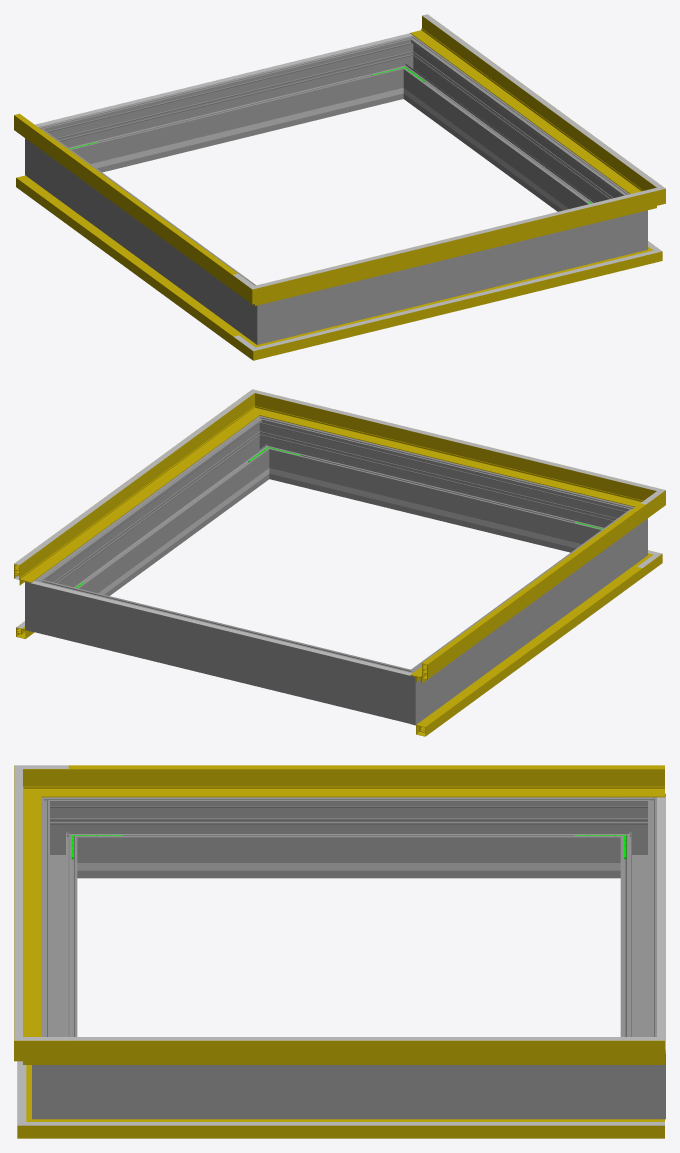
The picture shows the model from 3 angles, top to bottom: view 1: azimuth 30°, elevation 25°; view 2: azimuth 150°, elevation 25°; view 3: azimuth 270°, elevation 25°; orthographic projection. The views are drawn at different scales.
Visible parts, largest first — view 1: 3DGeom-276, 3DGeom-298, 3DGeom-297, 3DGeom-268, 3DGeom-56, 3DGeom-58, 3DGeom-11, 3DGeom-50, 3DGeom-6, 3DGeom-270, 3DGeom-244, 3DGeom-284 (+12 smaller); view 2: 3DGeom-298, 3DGeom-276, 3DGeom-297, 3DGeom-268, 3DGeom-56, 3DGeom-58, 3DGeom-50, 3DGeom-6, 3DGeom-278, 3DGeom-284, 3DGeom-239, 3DGeom-290 (+9 smaller); view 3: 3DGeom-268, 3DGeom-297, 3DGeom-50, 3DGeom-58, 3DGeom-16, 3DGeom-298, 3DGeom-276, 3DGeom-56, 3DGeom-232, 3DGeom-284, 3DGeom-290, 3DGeom-278 (+9 smaller).
Part boxes in pixels (x1,y1,x2,y2): 3DGeom-276: [63, 42, 397, 172]; 3DGeom-298: [291, 219, 613, 336]; 3DGeom-297: [407, 47, 621, 211]; 3DGeom-268: [45, 139, 248, 329]; 3DGeom-56: [283, 197, 631, 298]; 3DGeom-58: [410, 16, 642, 192]; 3DGeom-11: [283, 256, 627, 352]; 3DGeom-50: [14, 115, 233, 289]; 3DGeom-6: [16, 175, 242, 345]; 3DGeom-270: [237, 279, 291, 344]; 3DGeom-244: [103, 96, 370, 166]; 3DGeom-284: [384, 35, 429, 100]; 3DGeom-298: [275, 423, 609, 552]; 3DGeom-276: [59, 585, 387, 716]; 3DGeom-297: [50, 428, 265, 595]; 3DGeom-268: [424, 519, 627, 710]; 3DGeom-56: [277, 400, 628, 503]; 3DGeom-58: [14, 405, 249, 585]; 3DGeom-50: [410, 505, 645, 683]; 3DGeom-6: [410, 566, 642, 736]; 3DGeom-278: [381, 660, 435, 725]; 3DGeom-284: [25, 569, 65, 638]; 3DGeom-239: [302, 476, 569, 546]; 3DGeom-290: [243, 416, 288, 481]; 3DGeom-268: [86, 797, 611, 878]; 3DGeom-297: [86, 1065, 611, 1119]; 3DGeom-50: [68, 769, 664, 797]; 3DGeom-58: [68, 1040, 664, 1064]; 3DGeom-16: [71, 1119, 664, 1138]; 3DGeom-298: [41, 816, 77, 1036]; 3DGeom-276: [620, 816, 656, 1036]; 3DGeom-56: [14, 788, 41, 1036]; 3DGeom-232: [129, 863, 568, 870]; 3DGeom-284: [611, 1031, 665, 1119]; 3DGeom-290: [32, 1031, 86, 1119]; 3DGeom-278: [611, 793, 665, 878].
Size of the model in its own units: 1.83 by 0.307 by 1.83.
